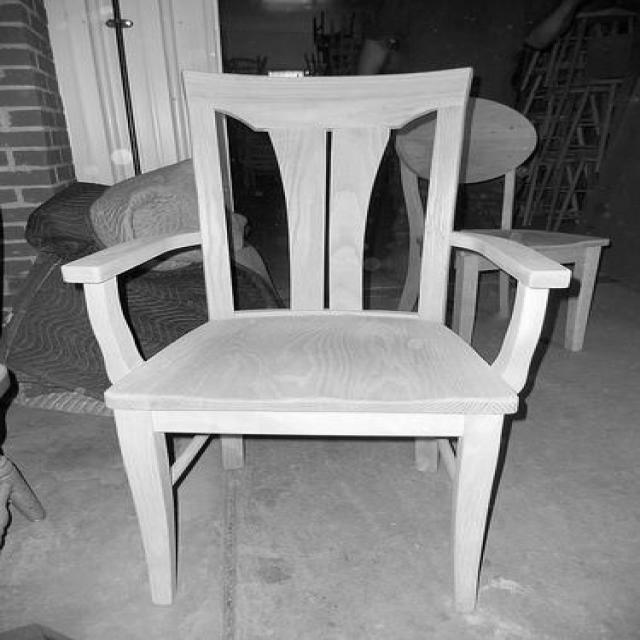chair: (68, 68, 581, 624), (399, 93, 621, 357)
